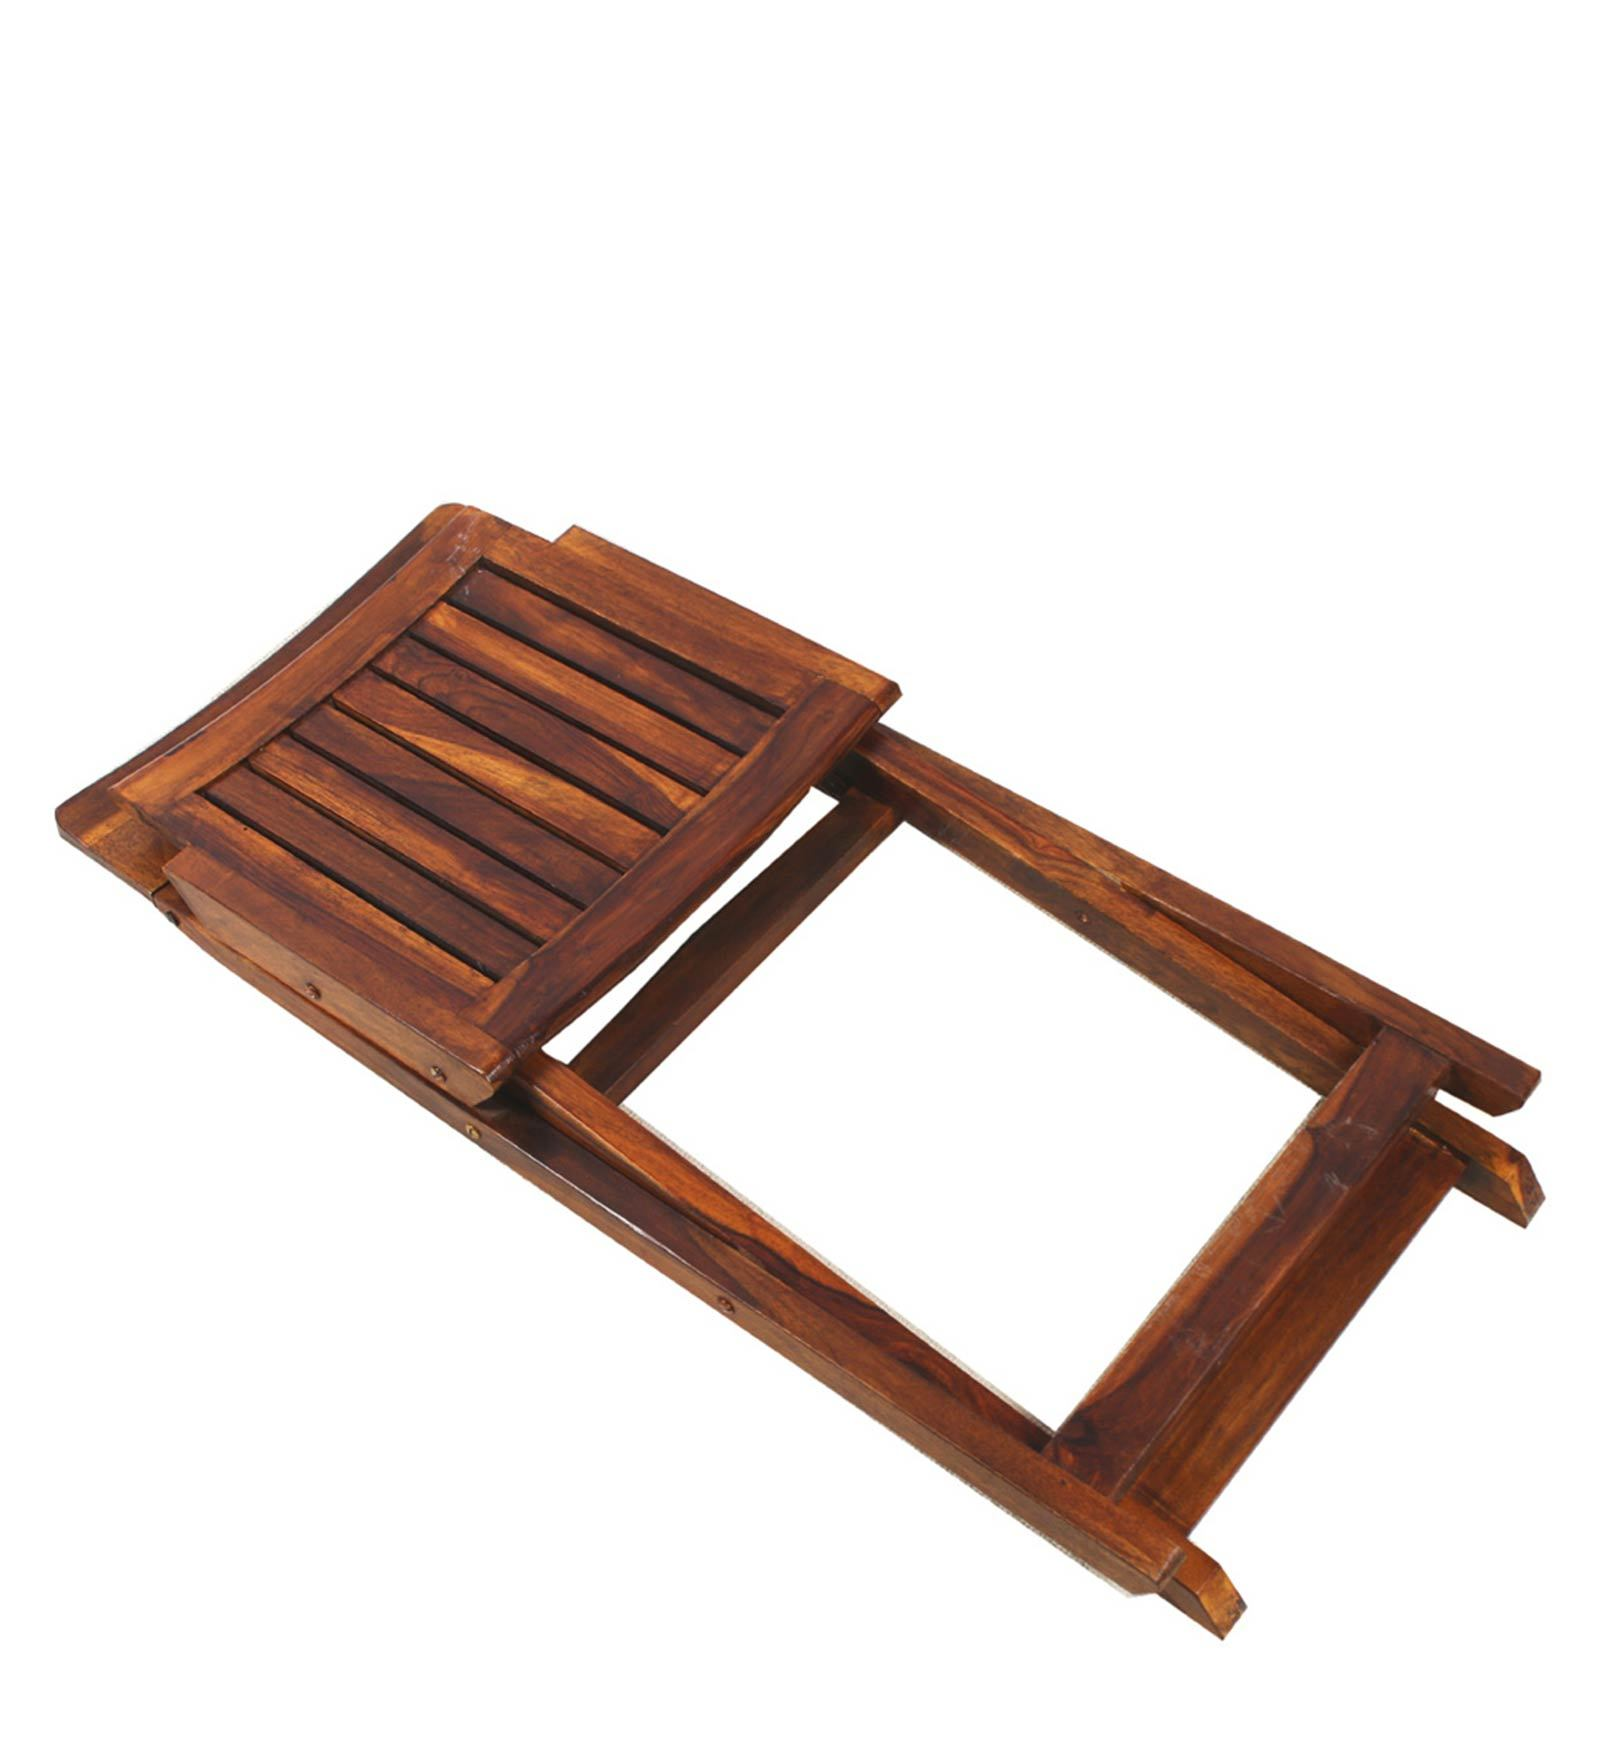Sheesham Wood Folding Chair in Walnut Finish by VarEesha: (49, 396, 1571, 1709)
